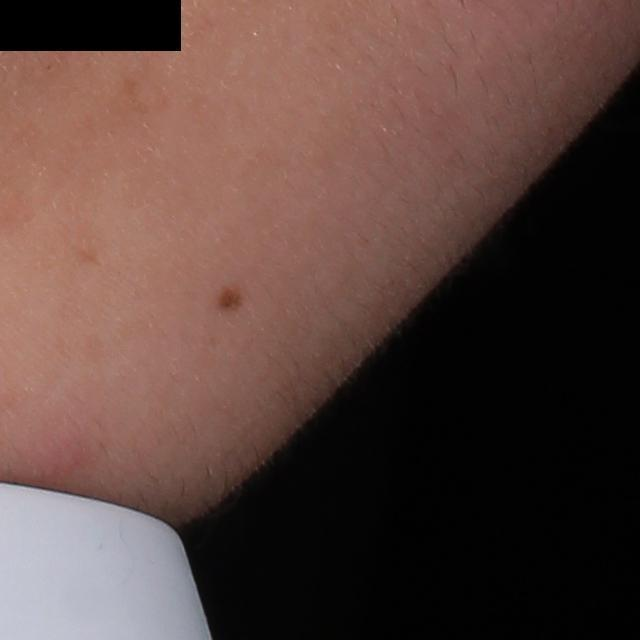nevus: (215, 283, 245, 312)
